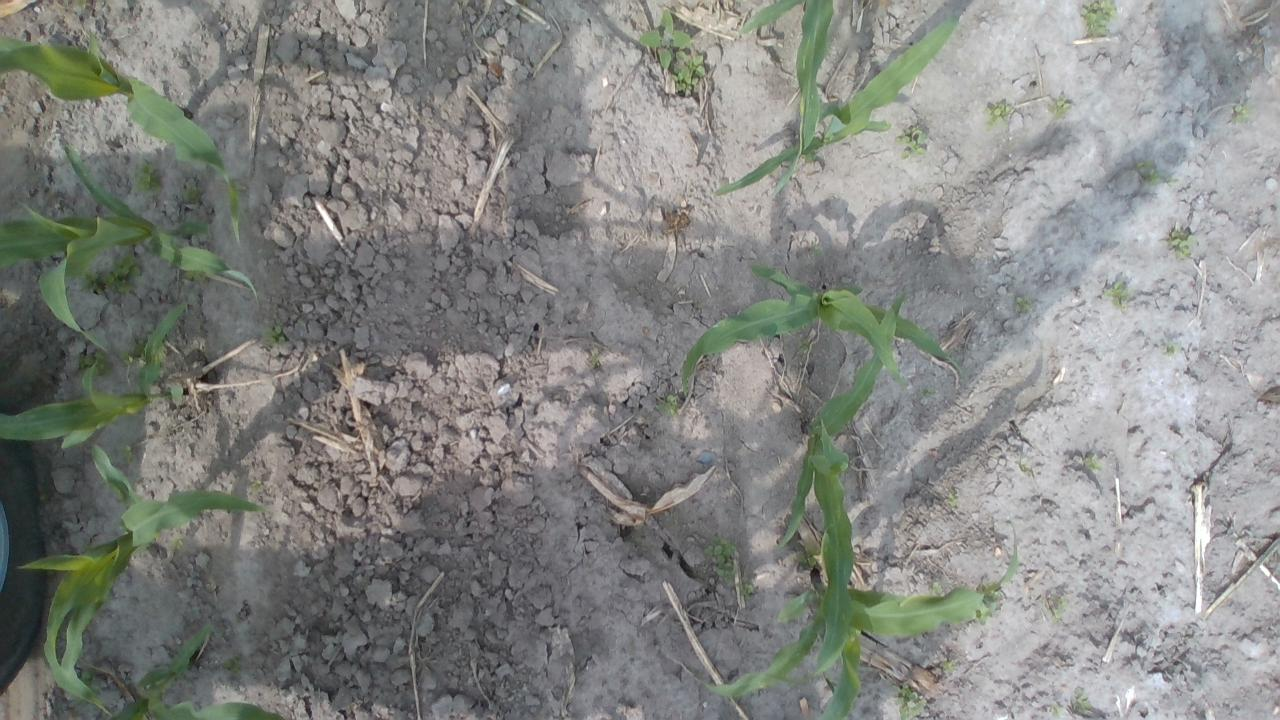Maize: (12, 441, 277, 719), (671, 534, 1030, 718), (2, 136, 264, 364), (774, 291, 914, 681), (2, 32, 248, 248), (709, 12, 965, 200), (676, 260, 971, 399), (0, 299, 208, 454), (739, 2, 840, 208), (102, 622, 284, 720)
Weeds: (638, 12, 706, 94), (700, 537, 760, 601), (80, 250, 141, 296), (1046, 686, 1092, 718), (1081, 1, 1118, 37), (173, 188, 204, 217), (899, 126, 930, 154), (1168, 229, 1196, 257), (136, 165, 160, 197), (898, 692, 924, 715), (1144, 167, 1173, 186), (1230, 99, 1252, 124), (1050, 594, 1070, 620), (1012, 292, 1036, 312), (988, 104, 1011, 124), (1106, 286, 1128, 306), (1056, 96, 1074, 120), (263, 325, 283, 344), (1081, 455, 1099, 472), (664, 391, 676, 416), (940, 655, 960, 670), (226, 654, 243, 671), (1022, 458, 1032, 477)
